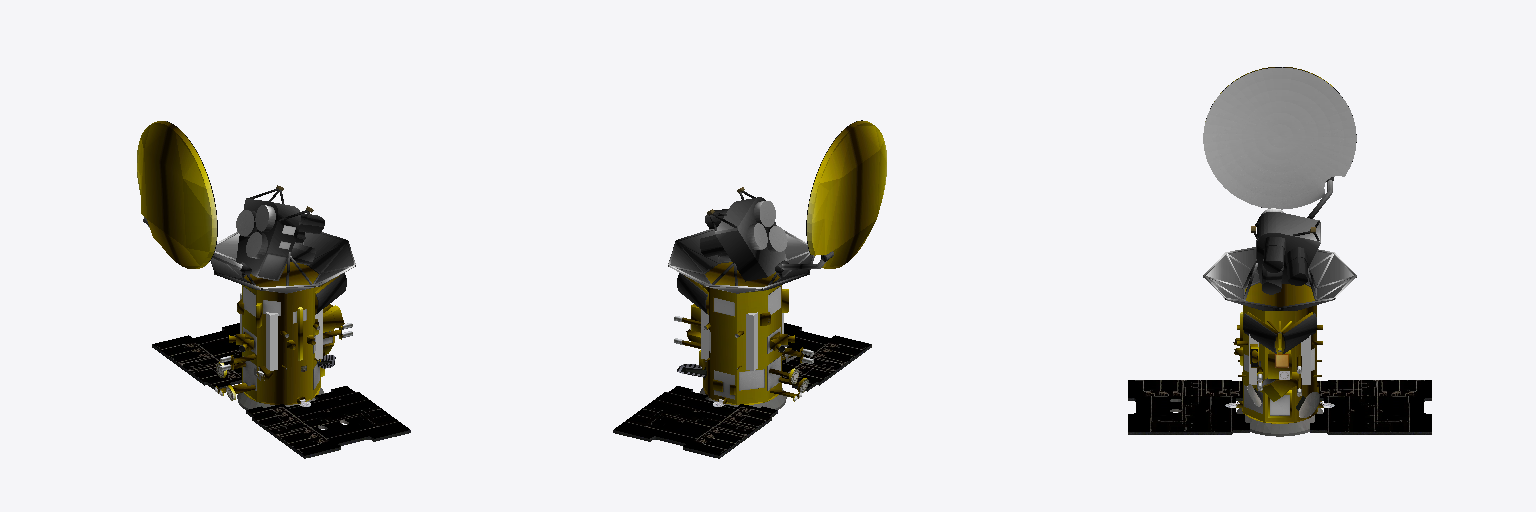
3 views of the same model, side by side, from view 1: azimuth 30°, elevation 25°; view 2: azimuth 150°, elevation 25°; view 3: azimuth 270°, elevation 25° (orthographic).
Visible parts, largest first — view 1: obj4, obj9, obj5, obj3, obj8, obj1; view 2: obj4, obj9, obj5, obj3, obj8, obj1; view 3: obj2, obj9, obj5, obj4, obj8, obj3, obj1.
Part boxes in pixels (x1,y1,x2,y2): obj4: (137, 121, 344, 404); obj9: (153, 323, 409, 455); obj5: (143, 188, 355, 313); obj3: (215, 205, 332, 395); obj8: (152, 185, 410, 458); obj1: (240, 293, 322, 370); obj4: (682, 121, 886, 404); obj9: (614, 323, 870, 455); obj5: (668, 191, 833, 313); obj3: (709, 201, 801, 400); obj8: (613, 187, 871, 458); obj1: (701, 309, 783, 370); obj2: (1203, 67, 1356, 209); obj9: (1128, 380, 1431, 431); obj5: (1203, 177, 1356, 353); obj4: (1205, 67, 1332, 423); obj8: (1128, 226, 1431, 436); obj3: (1244, 348, 1314, 415); obj1: (1249, 334, 1310, 384).
Bounding box in the file's own units: 3.49 × 5.38 × 4.97.
Materials: 10 (7 with a texture image).